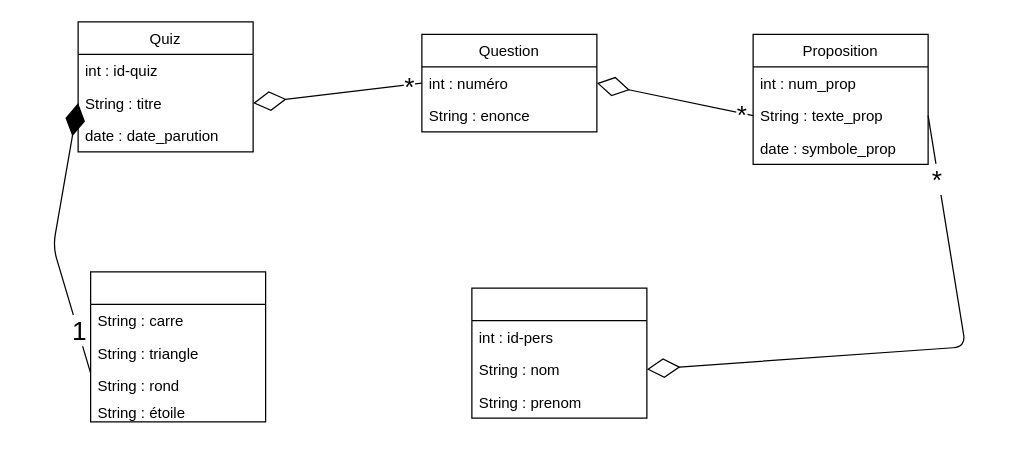
This 1020x454 diagram has some shape labels left out. The box of each missing label's shape, as (x1, y1, x2, y2) in pixels:
Resultat: (89, 271, 266, 422)
Répondant: (471, 287, 647, 418)
